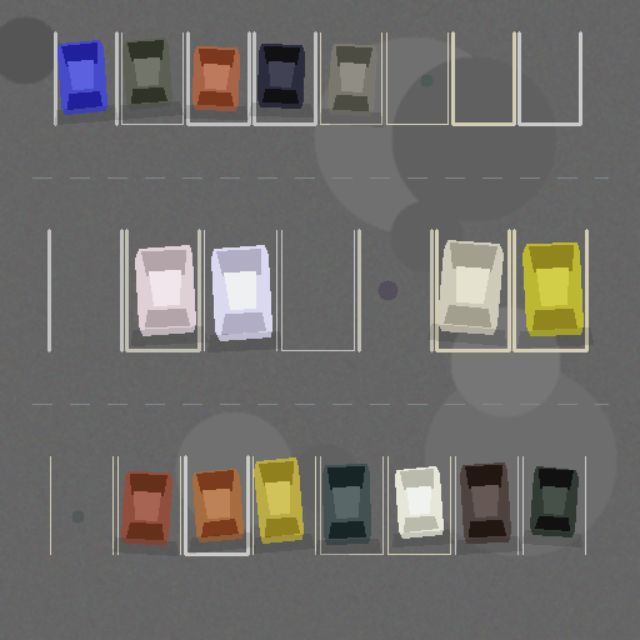space-empty: (281, 230, 354, 350), (49, 230, 121, 350), (359, 230, 431, 350), (50, 456, 112, 554), (386, 32, 447, 124), (453, 32, 514, 124), (519, 32, 580, 124)
space-occupied: (126, 230, 199, 350), (436, 230, 509, 350), (204, 230, 276, 350), (514, 230, 586, 350), (185, 456, 248, 554), (252, 456, 315, 554), (455, 456, 518, 554), (522, 456, 585, 554), (118, 456, 180, 554), (320, 456, 382, 554), (388, 456, 450, 554), (121, 32, 183, 124), (187, 32, 249, 124), (55, 32, 116, 124), (254, 32, 315, 124), (320, 32, 381, 124)
